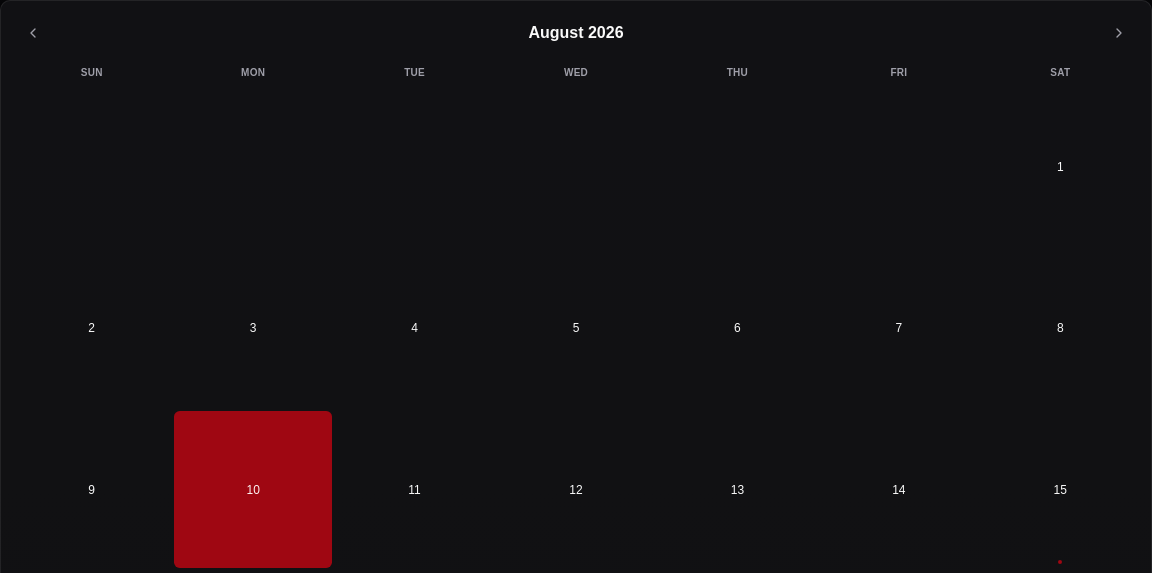
Test: MiniCalendar › renders a navigable month grid and marks planned days accessibly
This screenshot has width=1152, height=573.
Expected: the heading "August 2026" is shown, left=528, top=21, right=624, bottom=45
Expected: the element with test id "planned-dot" is shown, left=1058, top=560, right=1062, bottom=564
Click the button named "next month".
click(1119, 33)  # box left=1099, top=13, right=1139, bottom=53
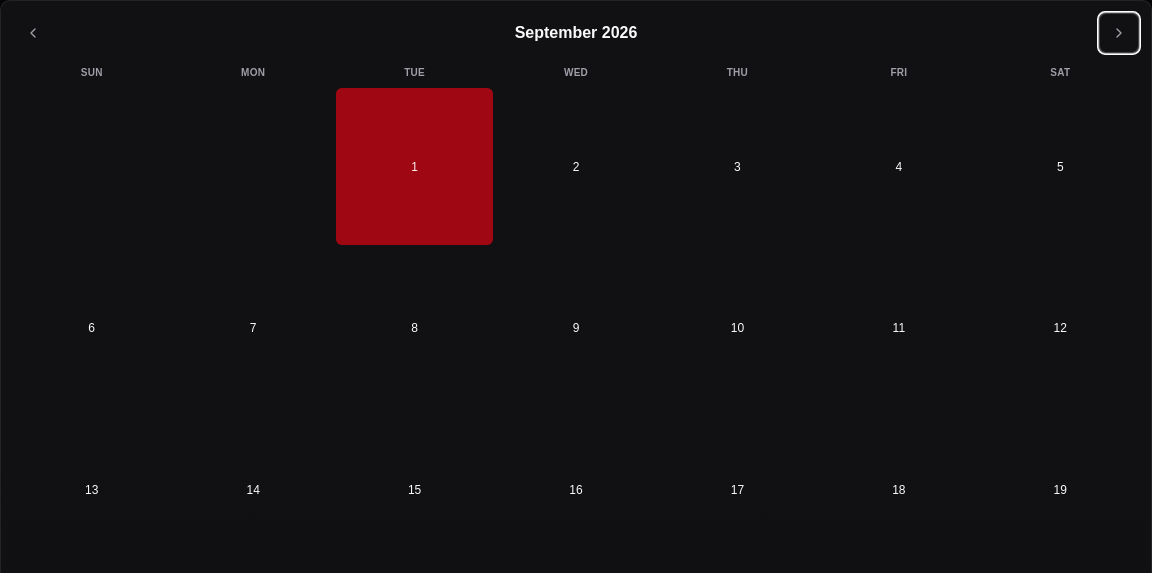
Now the heading "September 2026" is shown, box left=515, top=21, right=637, bottom=45
Click the button named "previous month".
click(33, 33)  # box left=13, top=13, right=53, bottom=53
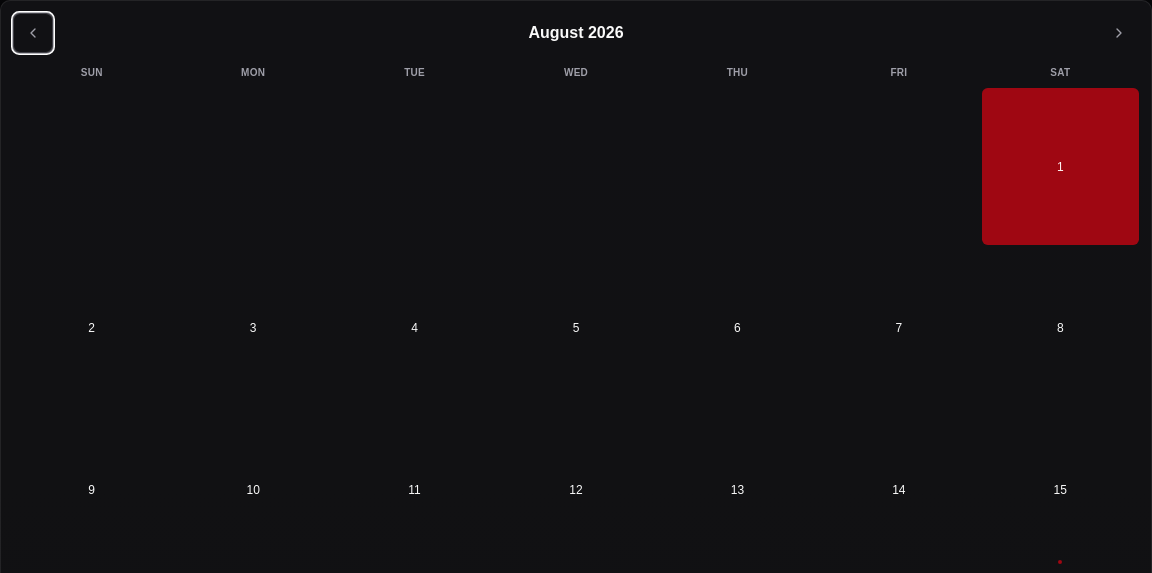
Now the heading "August 2026" is shown, box left=528, top=21, right=624, bottom=45
